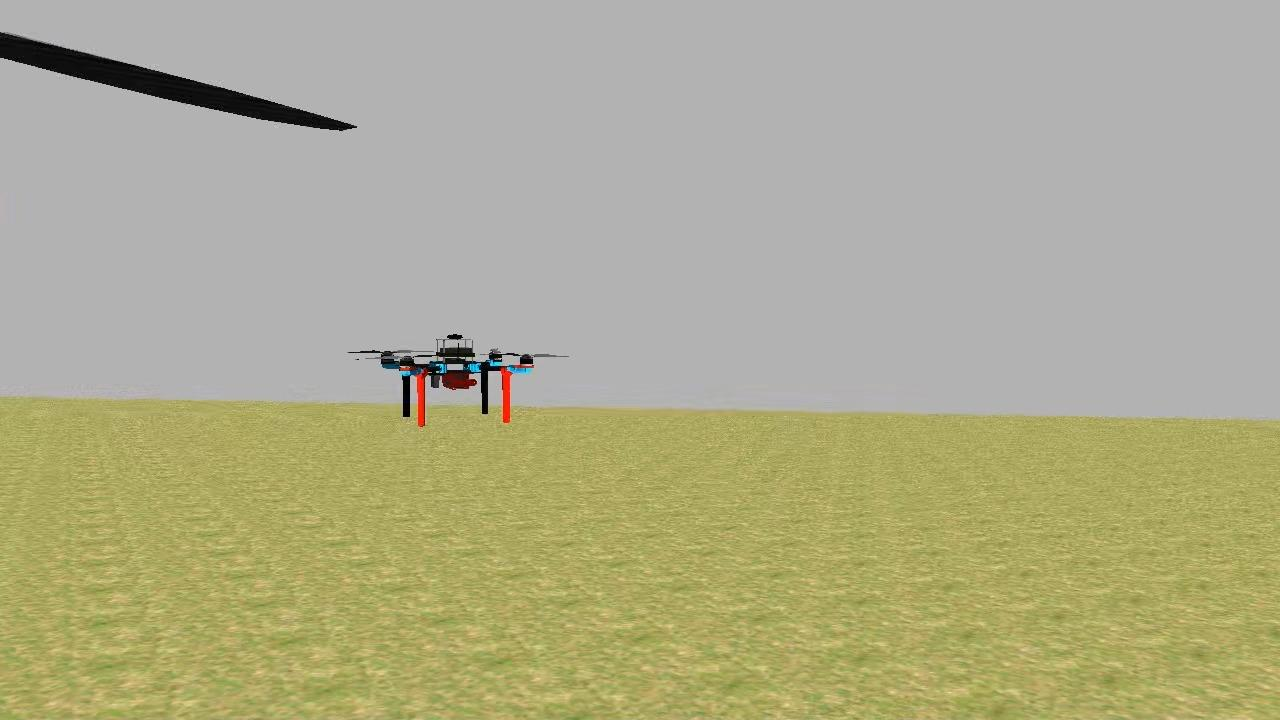UAV: (376, 328, 540, 426)
